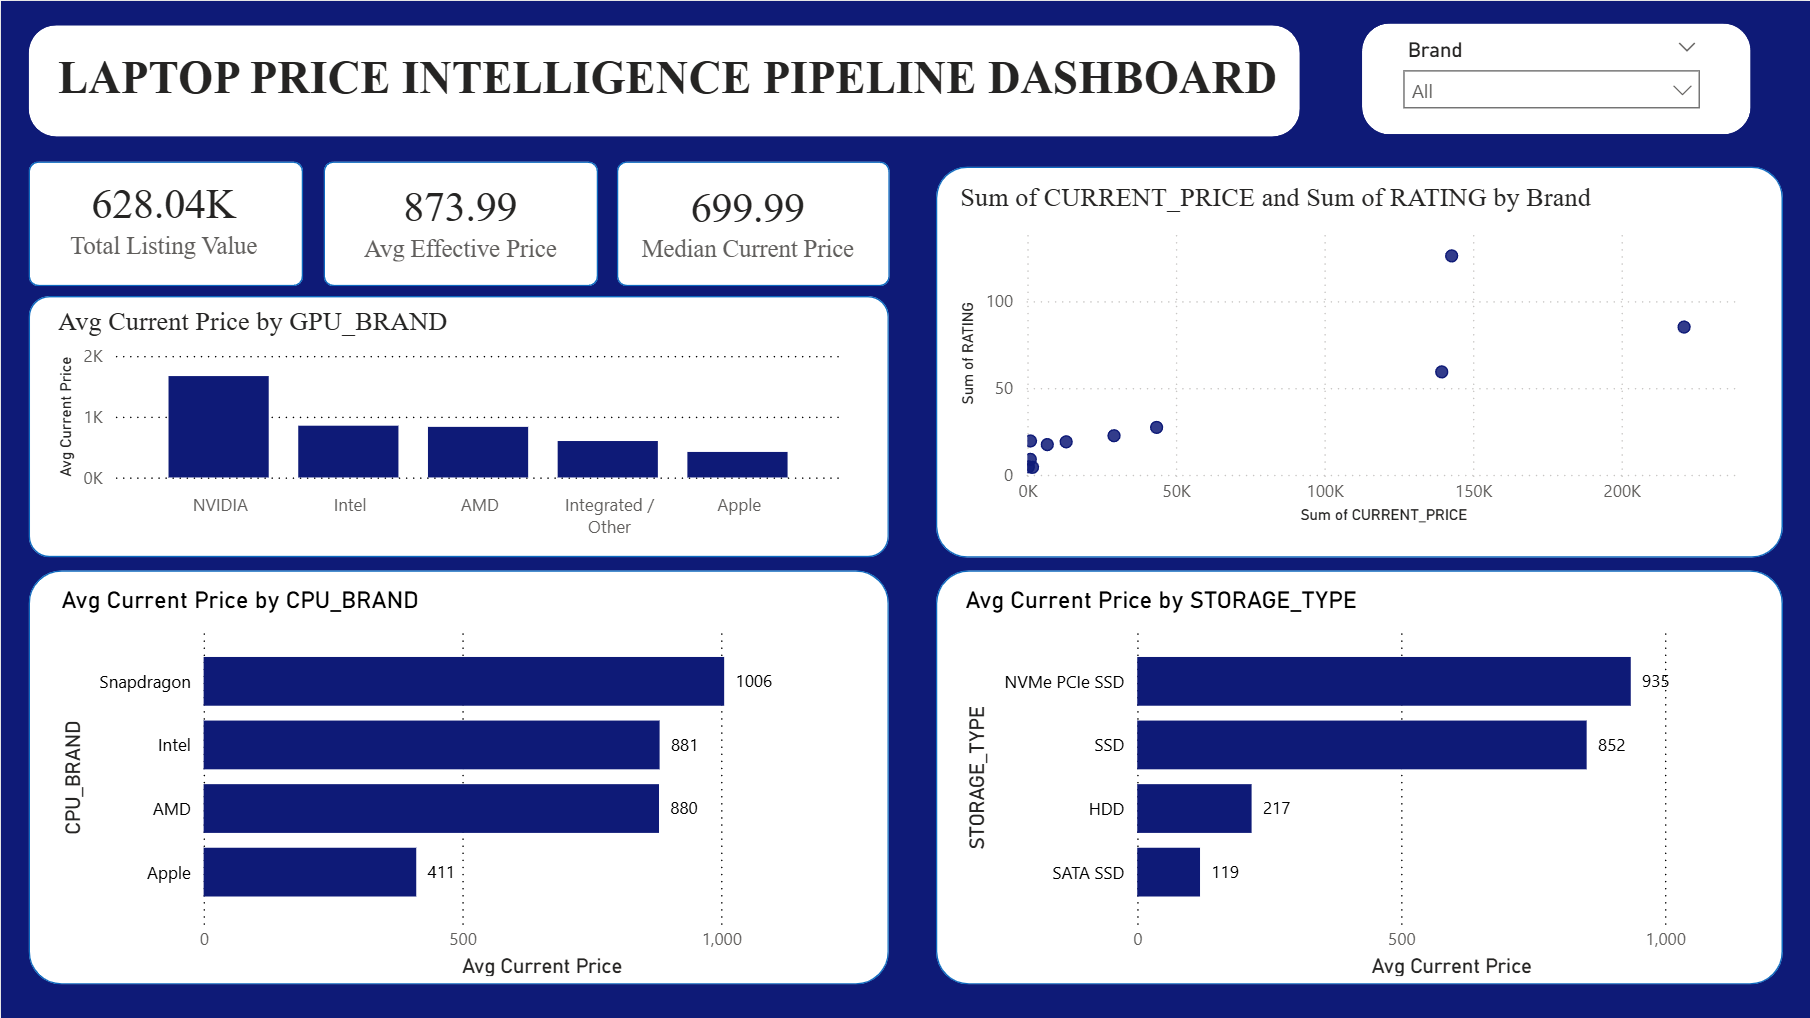

What the dashboard file says about the page in this screenshot:
{"tool":"powerbi","page":{"name":"Page 2","canvas":[1280,720],"ordinal":1},"visuals":[{"type":"shape","box":[20,208.2,608.2,184.7],"z":1000},{"type":"shape","box":[20,402.4,608.2,292.9],"z":2000},{"type":"shape","box":[661.2,402.4,598.8,292.9],"z":3000},{"type":"shape","box":[20,112.9,194.1,88.2],"z":4000},{"type":"shape","box":[435.3,112.9,192.9,88.2],"z":5000},{"type":"cardVisual","fields":{"Data":["_Measures.Total Listing Value"]},"box":[20,107.1,191.8,96.5],"z":6000},{"type":"shape","box":[228.2,112.9,194.1,88.2],"z":7000},{"type":"cardVisual","fields":{"Data":["_Measures.Avg Effective Price"]},"box":[221.2,112.9,208.2,88.2],"z":8000},{"type":"cardVisual","fields":{"Data":["_Measures.Median Current Price"]},"box":[422.4,107.1,212.9,101.2],"z":9000},{"type":"clusteredBarChart","fields":{"Category":["DIM_CPU.CPU_BRAND"],"Y":["_Measures.Avg Current Price"]},"box":[37.6,412.9,598.8,281.2],"z":10000},{"type":"clusteredBarChart","fields":{"Y":["_Measures.Avg Current Price"],"Category":["DIM_STORAGE.STORAGE_TYPE"]},"box":[676.5,412.9,585.9,281.2],"z":11000},{"type":"shape","box":[20,16.5,898.8,78.8],"z":12000},{"type":"textbox","box":[35.3,30.6,871.8,55.3],"z":13000},{"type":"shape","box":[661.2,116.5,598.8,276.5],"z":14000},{"type":"scatterChart","fields":{"Category":["DIM_BRAND.Brand"],"X":["Sum(FACT_LAPTOP_LISTING.CURRENT_PRICE)"],"Y":["Sum(FACT_LAPTOP_LISTING.RATING)"]},"box":[672.9,128.2,575.3,245.9],"z":15000},{"type":"clusteredColumnChart","fields":{"Category":["DIM_GPU.GPU_BRAND"],"Y":["_Measures.Avg Current Price"]},"box":[35.3,215.3,564.7,171.8],"z":16000},{"type":"shape","box":[962.3,16.5,274.8,78.5],"z":16001},{"type":"slicer","fields":{"Values":["DIM_BRAND.Brand"]},"box":[981.3,20.3,229.2,76],"z":16002}]}

Visuals, with their boxes in screenshot pixels (x1, y1, x2, y2), scaled from the page's 1280x720 canvas onto the 1810x1018 screenshot:
shape: BBox(28, 294, 888, 556)
shape: BBox(28, 569, 888, 983)
shape: BBox(935, 569, 1782, 983)
shape: BBox(28, 160, 303, 284)
shape: BBox(616, 160, 888, 284)
cardVisual - _Measures.Total Listing Value: BBox(28, 151, 299, 288)
shape: BBox(323, 160, 597, 284)
cardVisual - _Measures.Avg Effective Price: BBox(313, 160, 607, 284)
cardVisual - _Measures.Median Current Price: BBox(597, 151, 898, 295)
clusteredBarChart - DIM_CPU.CPU_BRAND x _Measures.Avg Current Price: BBox(53, 584, 900, 981)
clusteredBarChart - _Measures.Avg Current Price x DIM_STORAGE.STORAGE_TYPE: BBox(957, 584, 1785, 981)
shape: BBox(28, 23, 1299, 135)
textbox: BBox(50, 43, 1283, 121)
shape: BBox(935, 165, 1782, 556)
scatterChart - DIM_BRAND.Brand x Sum(FACT_LAPTOP_LISTING.CURRENT_PRICE): BBox(952, 181, 1765, 529)
clusteredColumnChart - DIM_GPU.GPU_BRAND x _Measures.Avg Current Price: BBox(50, 304, 848, 547)
shape: BBox(1361, 23, 1749, 134)
slicer - DIM_BRAND.Brand: BBox(1388, 29, 1712, 136)
